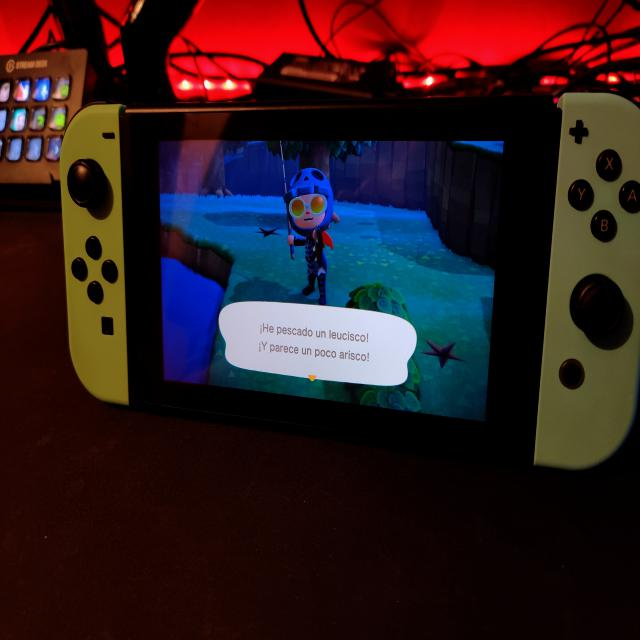text_bubble: (217, 296, 420, 390)
